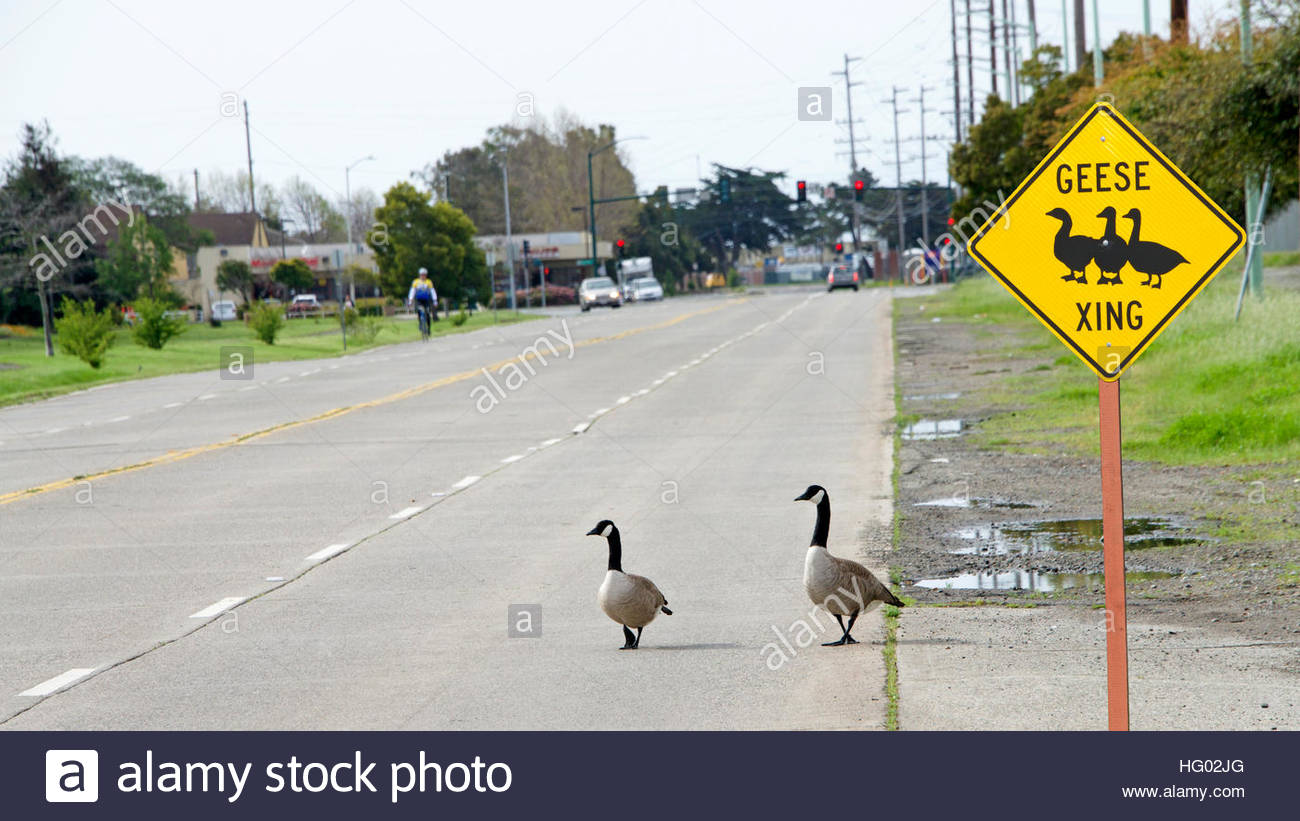goose: (790, 480, 906, 652), (584, 517, 674, 654)
